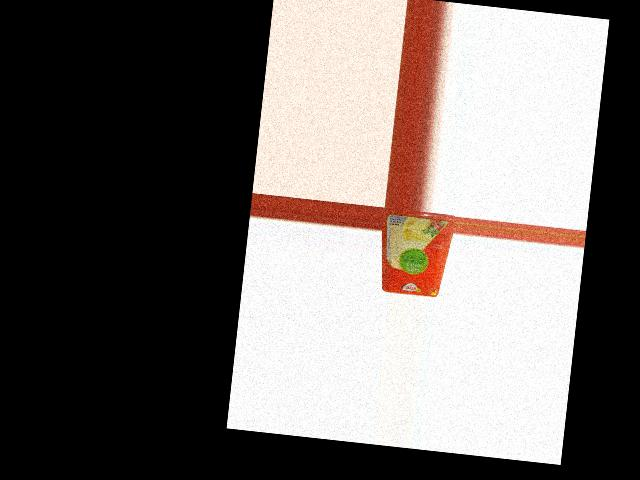cheese: (377, 207, 455, 298)
